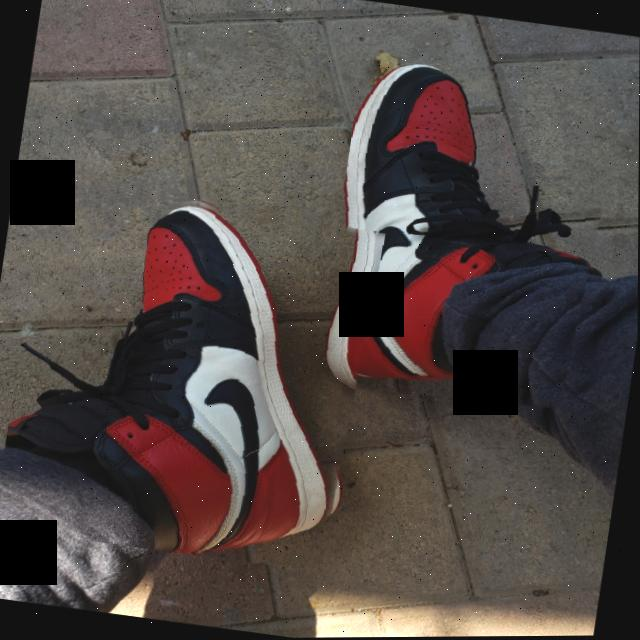shoe: (0, 174, 388, 576), (316, 54, 630, 423)
